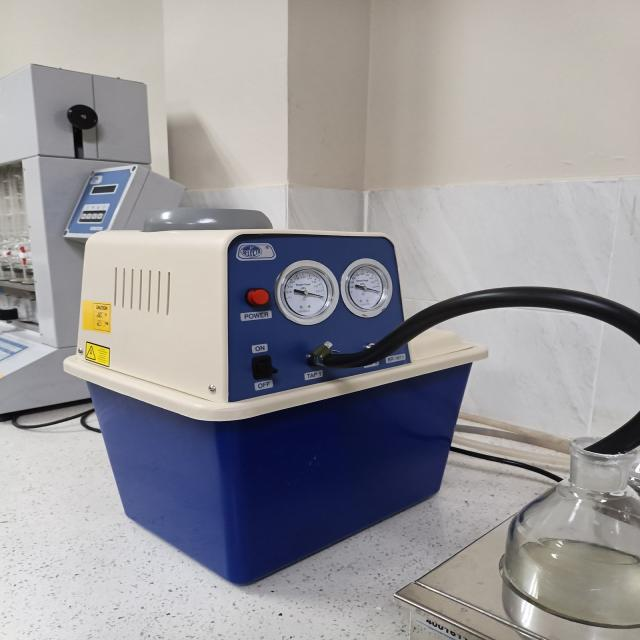Bomba de Vacio por Recirculacion de Agua: (64, 208, 639, 583)
